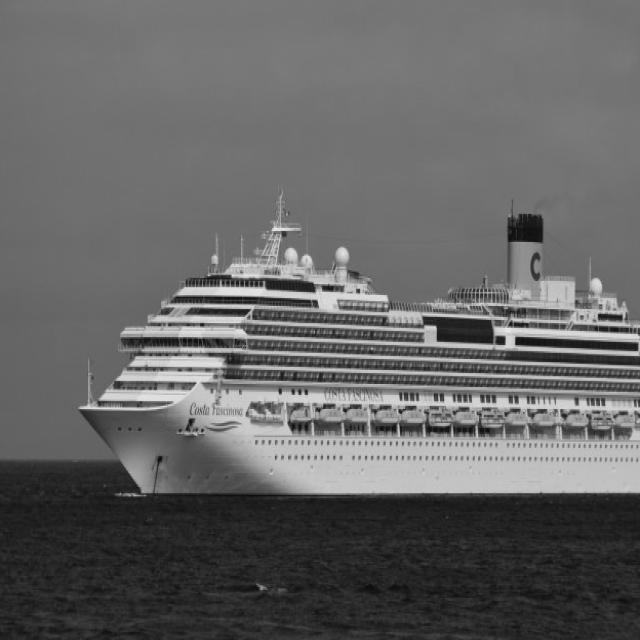cruises: (76, 190, 640, 505)
